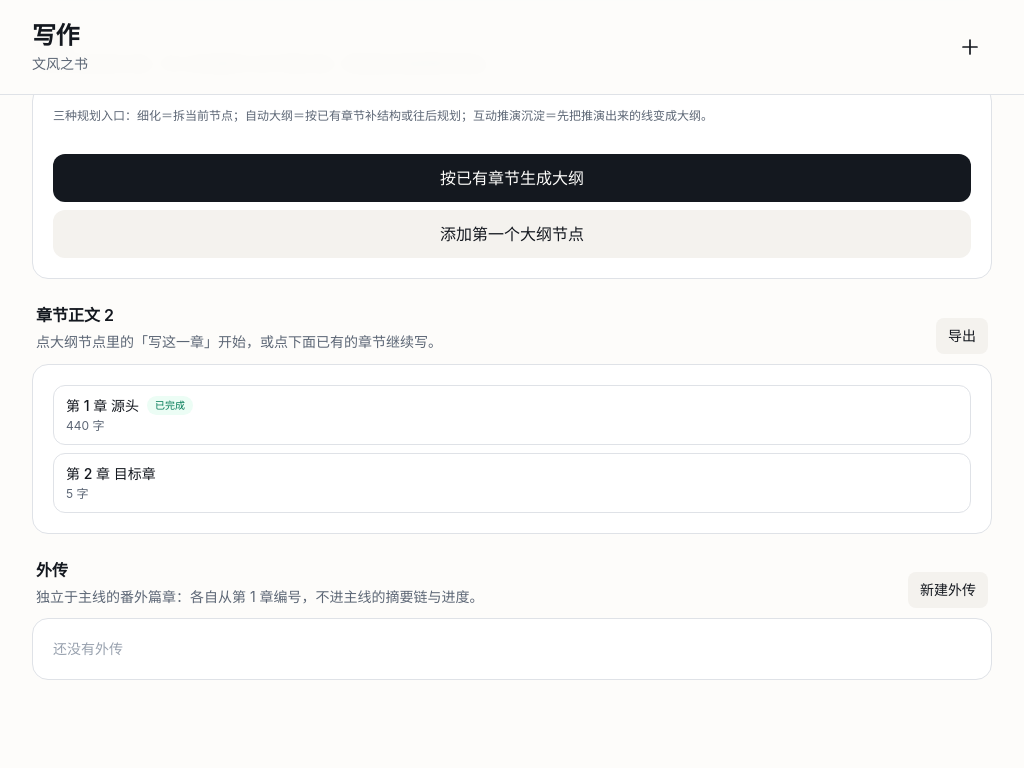
Scenario: M4-S2 · 编辑器 UI › 无问题：显示「未发现明显文风漂移。」
(page scrolled)
Click the button with aria-label "继续写第 2 章" at coordinates (133, 473), box 53,452 -> 971,512
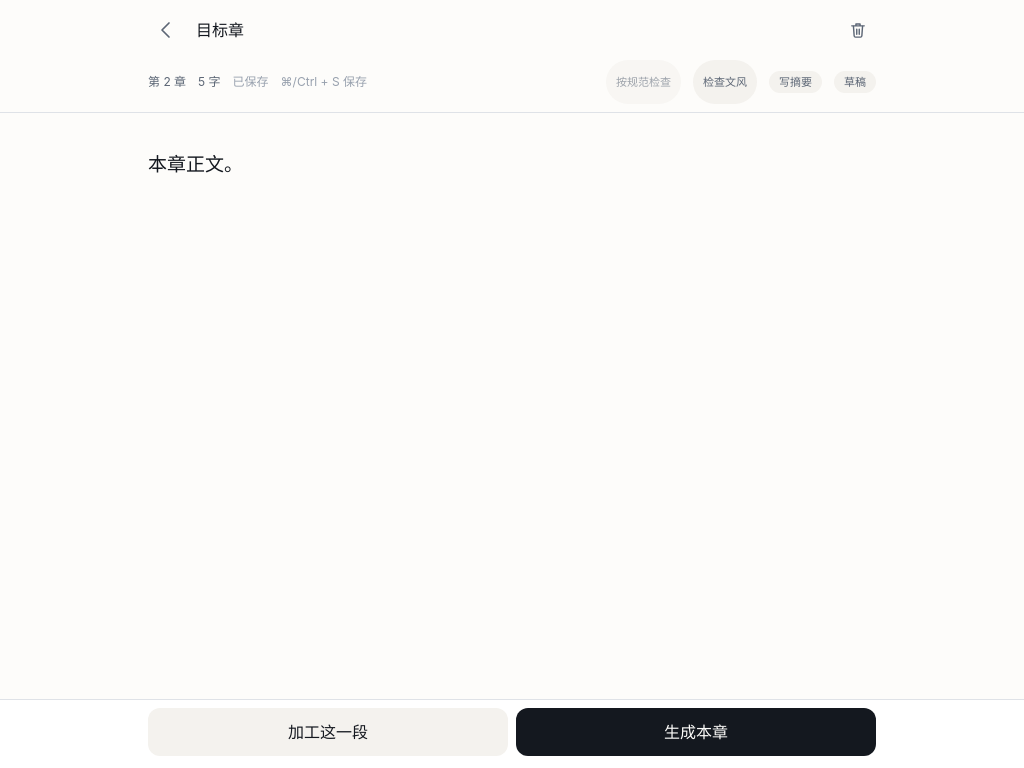
Expected: the text box named "章节正文" is shown, 144,113 -> 880,699
Click the button "检查文风" at coordinates (725, 82), box 693,60 -> 757,104
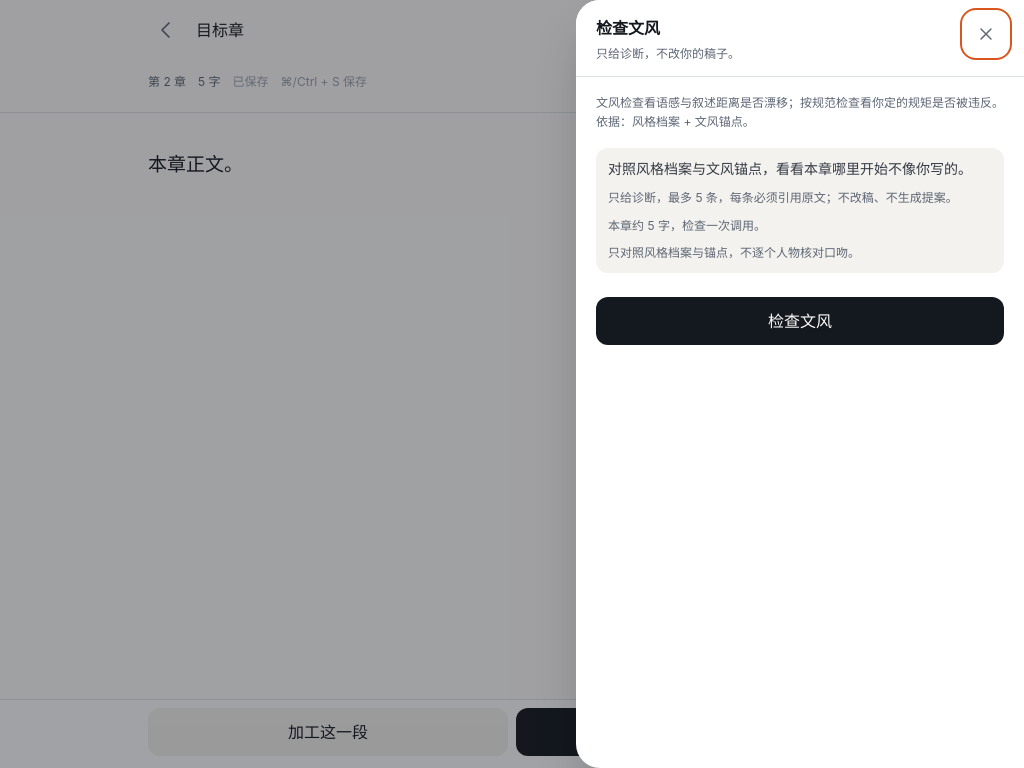
Click the button "检查文风" at coordinates (800, 321), box 596,297 -> 1004,345
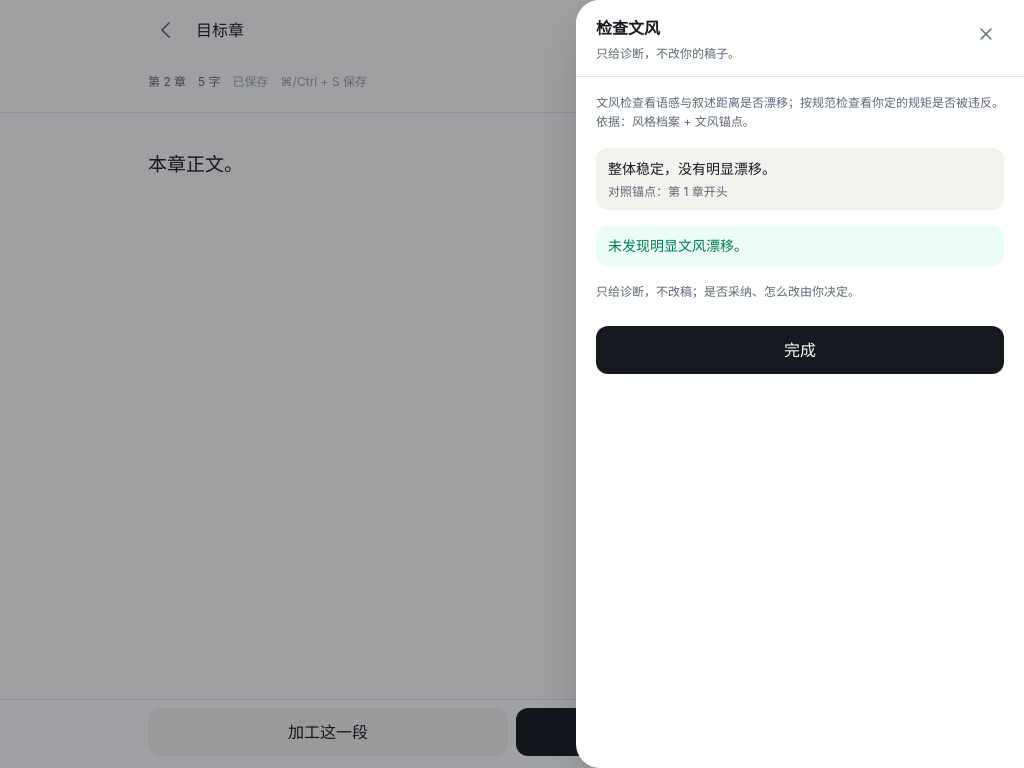
Expected: the text "未发现明显文风漂移。" is shown, 596,226 -> 1004,266
